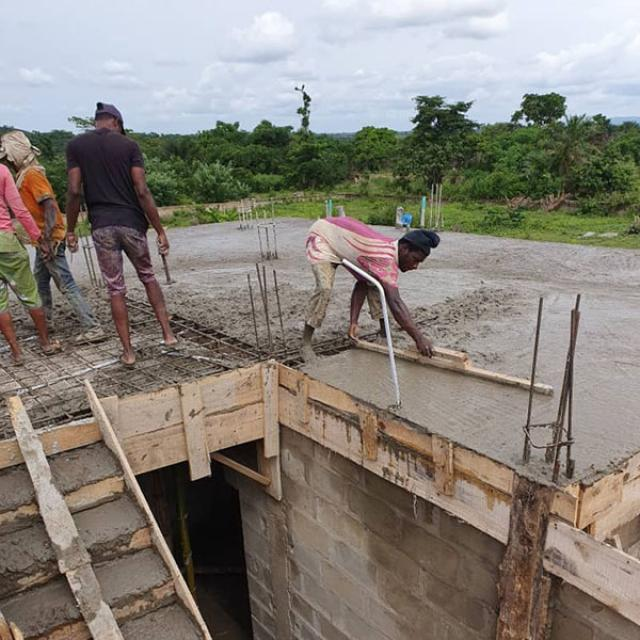boots: (66, 324, 107, 344)
no_boots: (297, 335, 323, 369), (378, 321, 407, 342), (160, 326, 184, 348), (2, 344, 24, 366), (116, 346, 138, 368), (39, 340, 64, 354)
no_gloves: (410, 332, 437, 360), (32, 230, 53, 264), (152, 227, 173, 257), (346, 320, 366, 346), (64, 228, 80, 255)
no_hardhat: (396, 230, 442, 275), (88, 98, 128, 142), (0, 129, 41, 171)
no_vest: (63, 128, 155, 235), (299, 218, 403, 296), (12, 166, 74, 251), (0, 154, 48, 253)
person: (62, 102, 195, 370), (0, 130, 109, 347), (294, 214, 443, 369), (0, 125, 59, 377)
